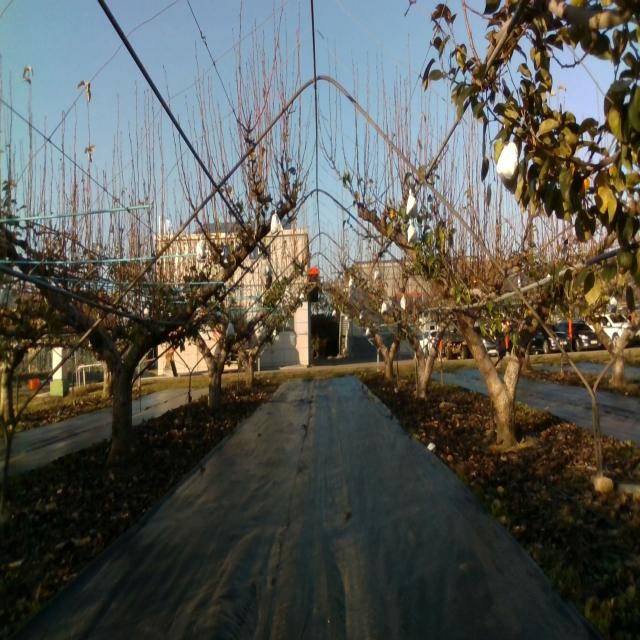pearbags: (496, 139, 522, 195), (405, 190, 418, 218), (270, 209, 284, 234), (196, 235, 208, 263), (407, 218, 418, 245)
